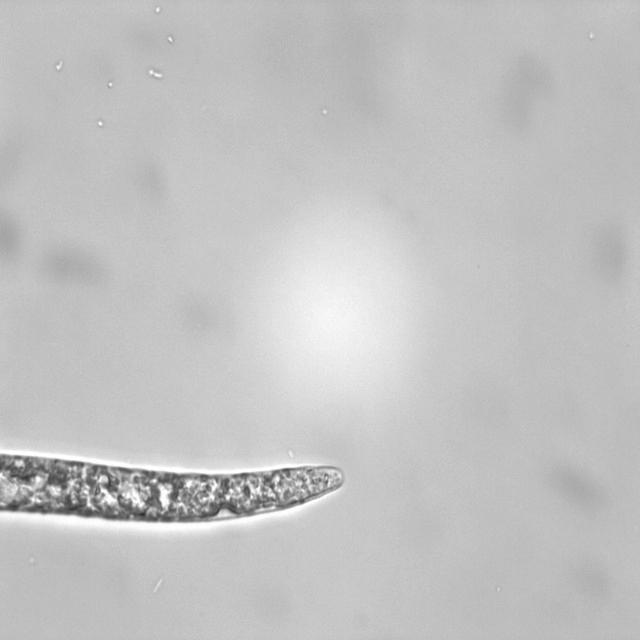Pratylenchus: (0, 451, 356, 521)
